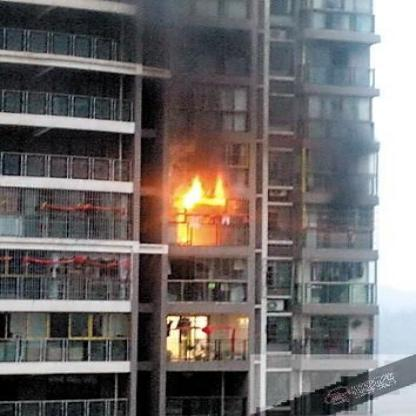fire: (180, 172, 207, 206), (206, 170, 230, 204)
